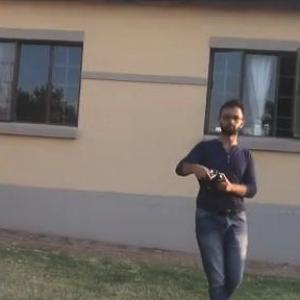follow: (169, 87, 264, 299)
